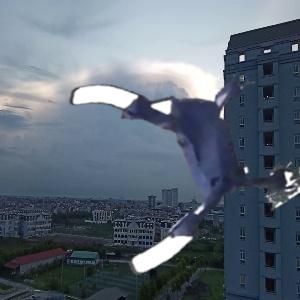drone: (70, 41, 285, 256)
